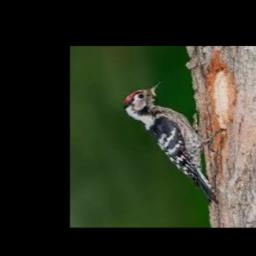Woodpecker: (123, 82, 225, 203)
